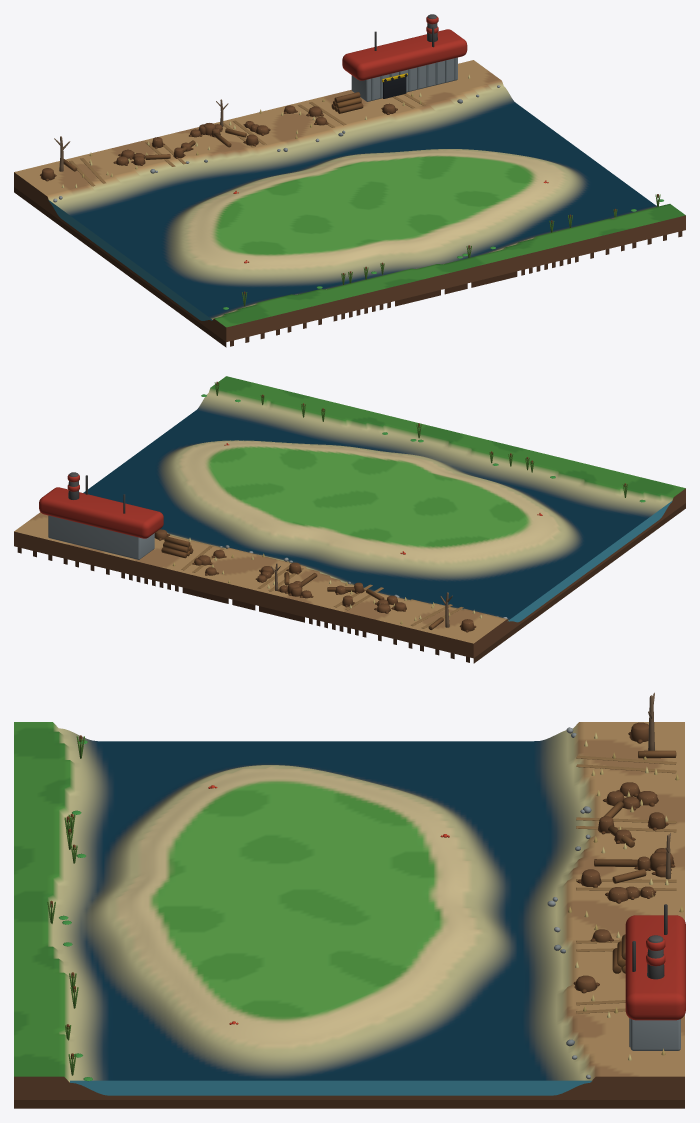
File: entorno.glb
3 renders of one model, top to bottom at view 1: azimuth 30°, elevation 25°; view 2: azimuth 150°, elevation 25°; view 3: azimuth 270°, elevation 25°, orthographic. The views are drawn at different scales.
Parts seen in each view (by area): view 1: terreno, costado, empresa, decorado; view 2: terreno, costado, empresa, decorado; view 3: terreno, costado, decorado, empresa.
Boxes of the visible parts, bbox=[...] form: terreno: bbox=[14, 60, 685, 327]; costado: bbox=[14, 172, 685, 347]; empresa: bbox=[331, 14, 467, 113]; decorado: bbox=[40, 74, 663, 309]; terreno: bbox=[14, 376, 685, 643]; costado: bbox=[14, 488, 685, 663]; empresa: bbox=[39, 472, 193, 559]; decorado: bbox=[154, 381, 645, 632]; terreno: bbox=[14, 722, 684, 1082]; costado: bbox=[14, 1076, 684, 1108]; decorado: bbox=[47, 692, 683, 1081]; empresa: bbox=[612, 904, 685, 1050].
Size of the model in its own units: 14.75 by 2.56 by 11.78.
